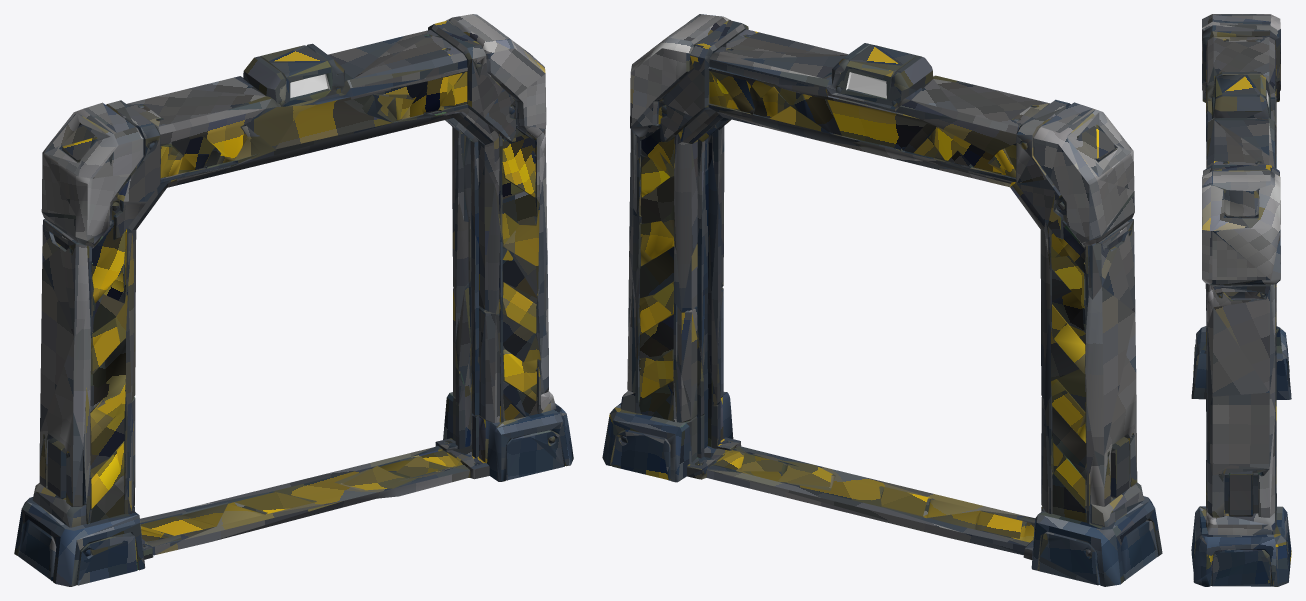
Rendered from door_frame.glb.
3 renders of one model, left to right at view 1: azimuth 30°, elevation 25°; view 2: azimuth 150°, elevation 25°; view 3: azimuth 270°, elevation 25°, orthographic. The views are drawn at different scales.
Parts seen in each view (by area): view 1: Mesh_0; view 2: Mesh_0, Lens; view 3: Mesh_0.
Boxes of the visible parts, x1,y1,x2,y2 form: Mesh_0: (14,14,573,586); Mesh_0: (602,14,1162,586); Lens: (846,72,886,98); Mesh_0: (1191,14,1291,586).
Bounding box in the file's own units: 1.9 × 1.57 × 0.3633.
Materials: 2 (1 with a texture image).
